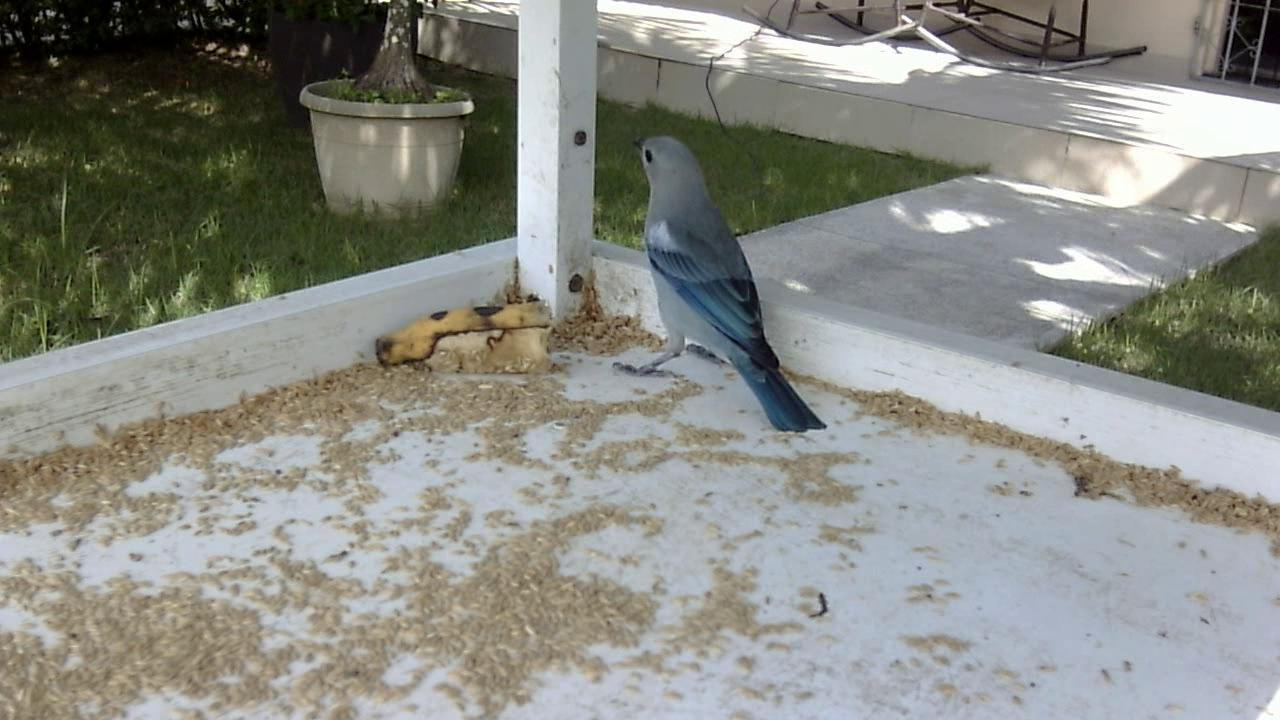sanhaco_da_amazonia: (605, 129, 841, 444)
